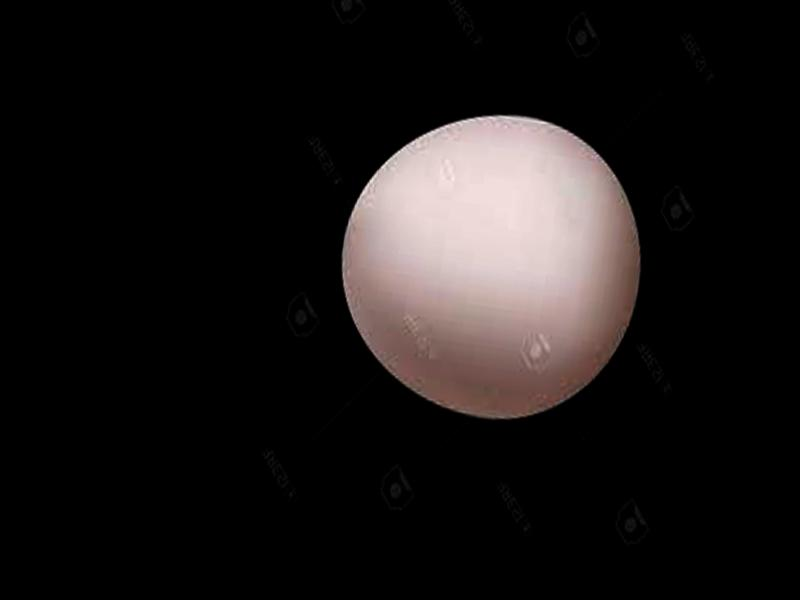Eggs: (323, 94, 658, 432)
